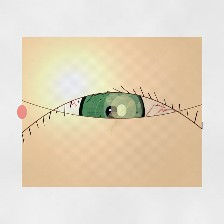corneal_ulcer: (102, 91, 145, 126)
